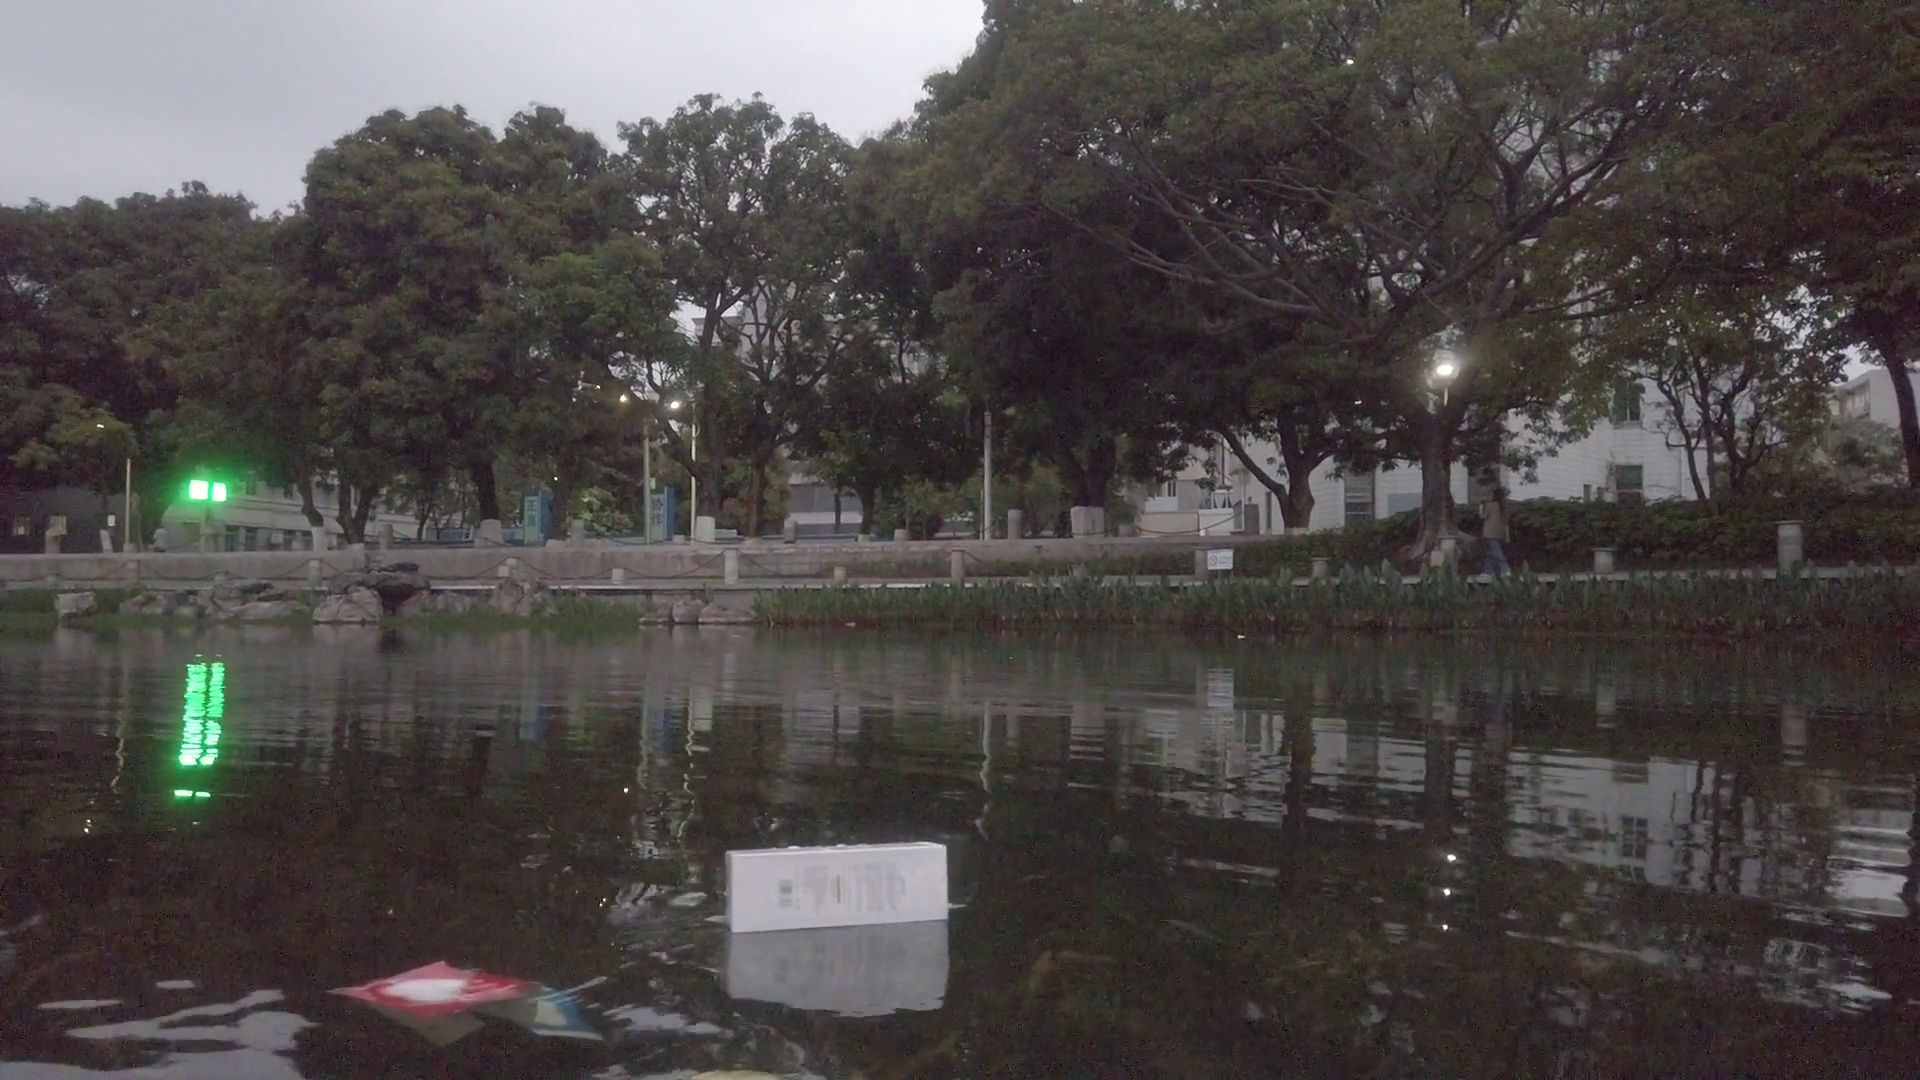carton: (724, 836, 952, 927)
paper: (331, 952, 588, 1054)
